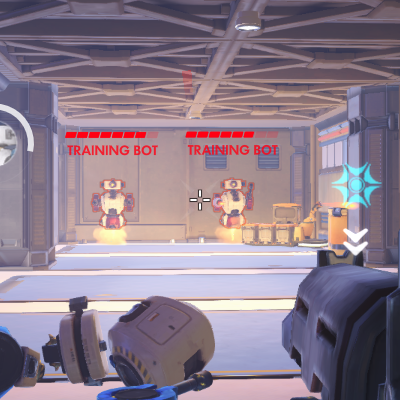hpbar: (184, 130, 278, 139), (64, 131, 159, 139)
